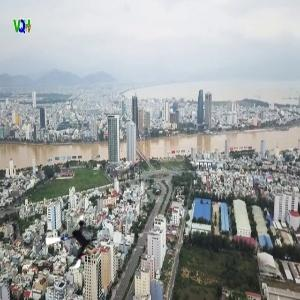drone: (44, 213, 103, 272)
